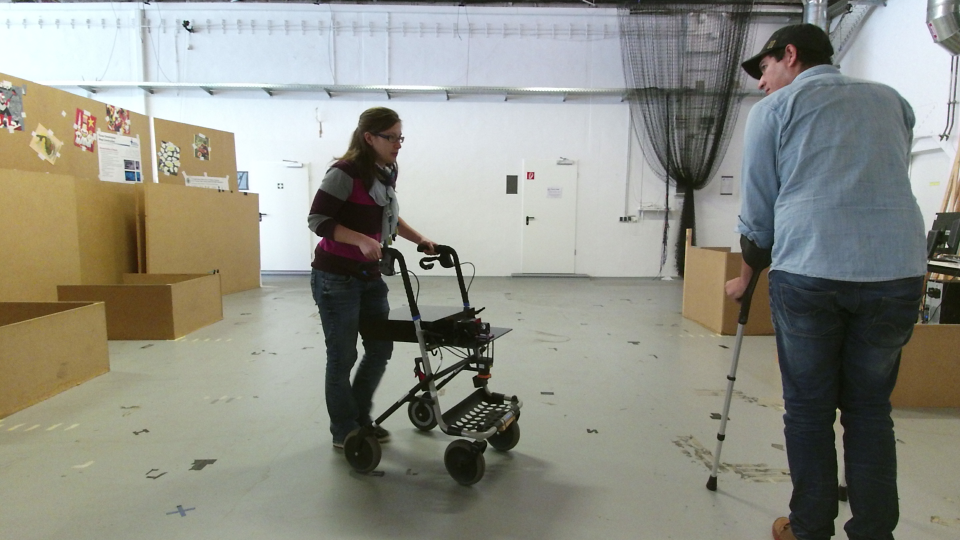crutches: (695, 22, 934, 540)
